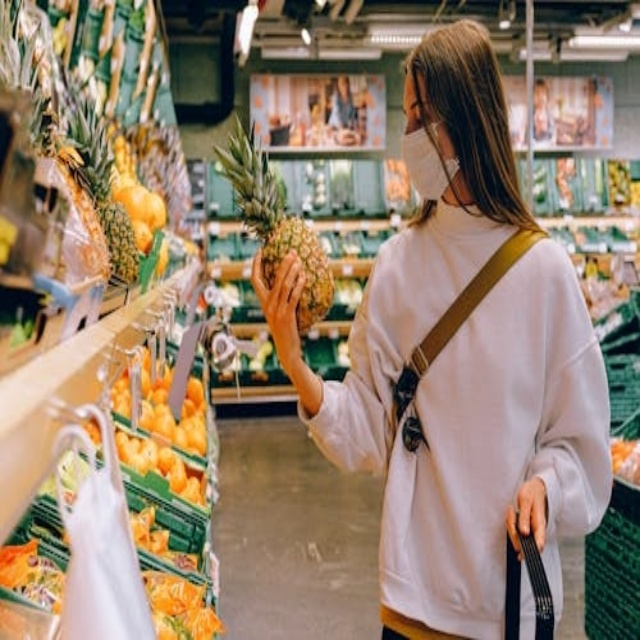Mascara: (402, 120, 459, 205)
Sin_gafas: (394, 94, 431, 133)
Sin_guantes: (251, 250, 309, 360), (505, 476, 549, 558)
